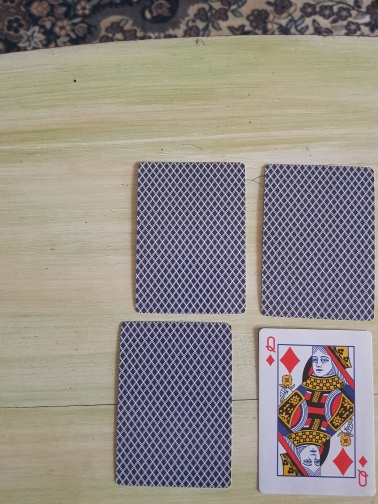queen: (257, 327, 378, 498)
